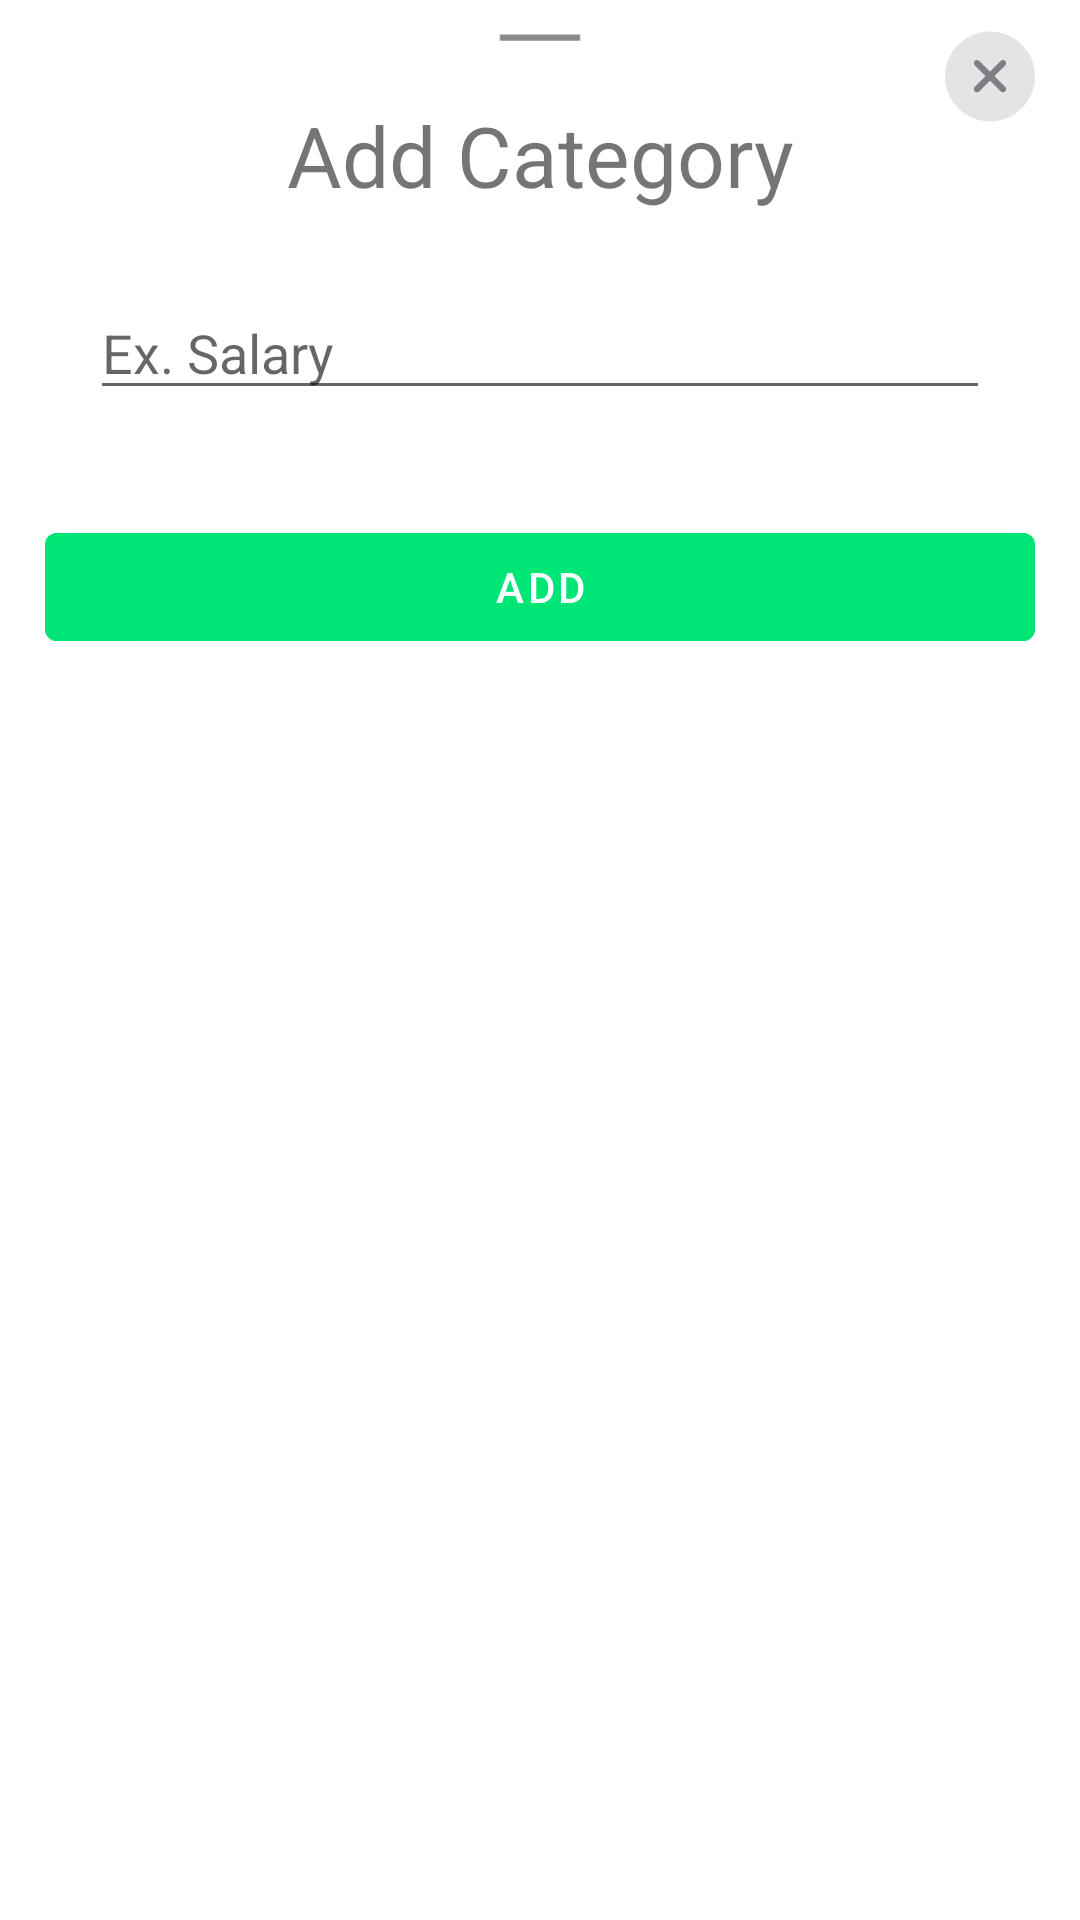

Where icons sit on this 1080*1920 app screen, as (x1, y1, x2, y2):
close: (945, 32, 1035, 121)
